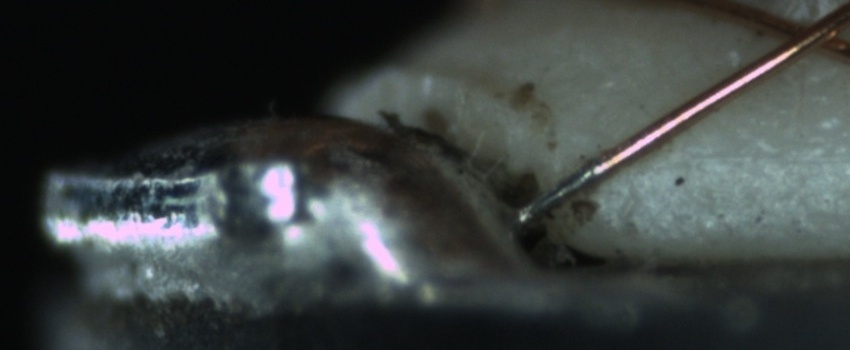CL: (759, 6, 845, 64)
DL: (672, 123, 849, 187)
TS: (513, 158, 608, 225)
